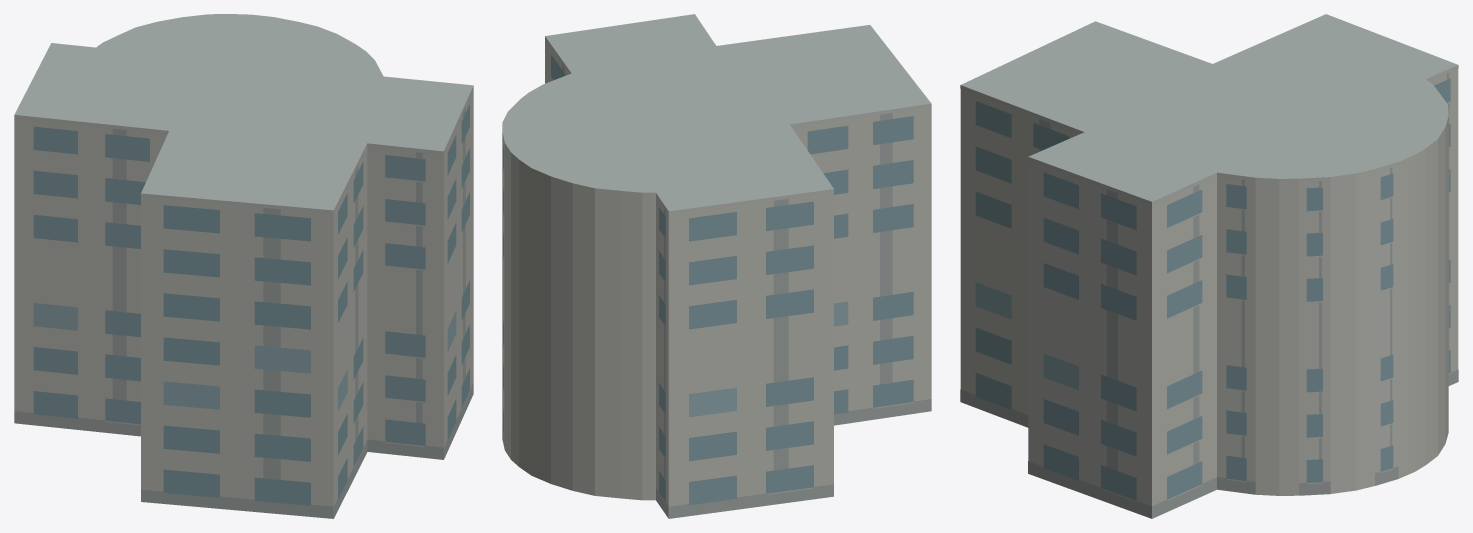
The model's file is survey-upis-32889441.glb.
3 views of the same model, side by side, from view 1: azimuth 30°, elevation 25°; view 2: azimuth 150°, elevation 25°; view 3: azimuth 270°, elevation 25° (orthographic). The views are drawn at different scales.
Parts seen in each view (by area): view 1: survey-upis-32889441.tmp; view 2: survey-upis-32889441.tmp; view 3: survey-upis-32889441.tmp.
Part boxes in pixels (box(x1,y1,x2,y2)): survey-upis-32889441.tmp: box(14, 14, 473, 518); survey-upis-32889441.tmp: box(502, 14, 931, 518); survey-upis-32889441.tmp: box(960, 14, 1458, 518).
Size of the model in its own units: 26.31 by 20.7 by 29.47.
